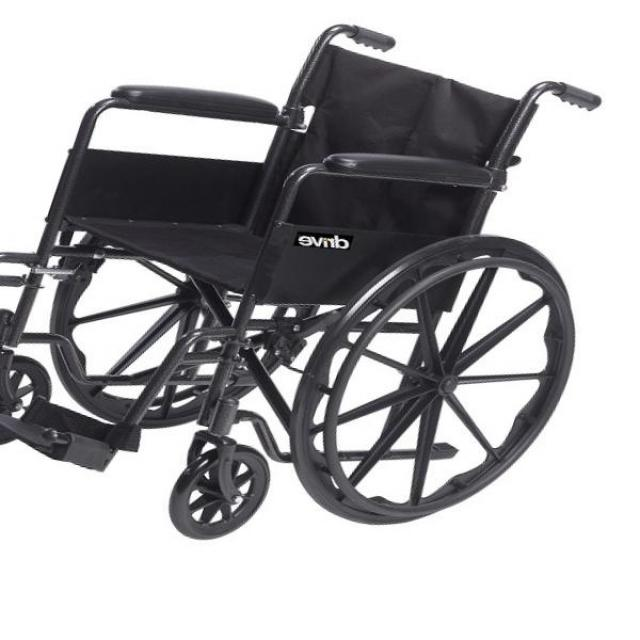wheelchair: (0, 9, 640, 563)
